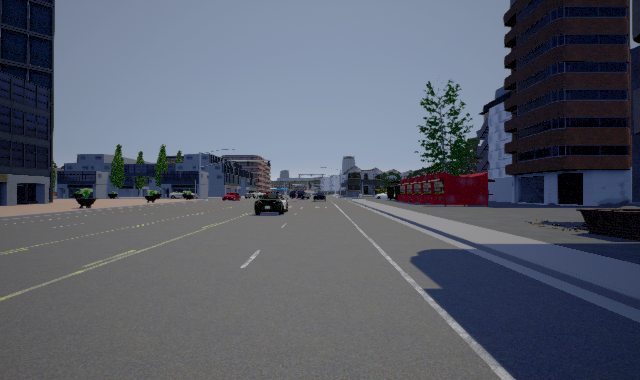vehicle: (245, 190, 288, 215), (287, 187, 312, 206), (221, 189, 243, 203), (309, 190, 329, 203)
